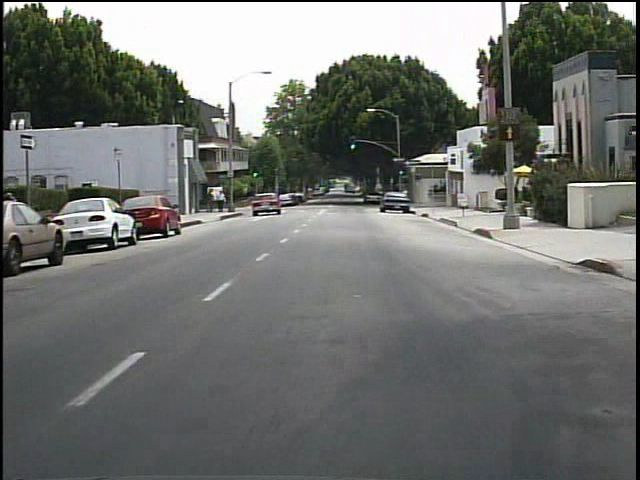person: (205, 189, 218, 216), (217, 188, 228, 213)
